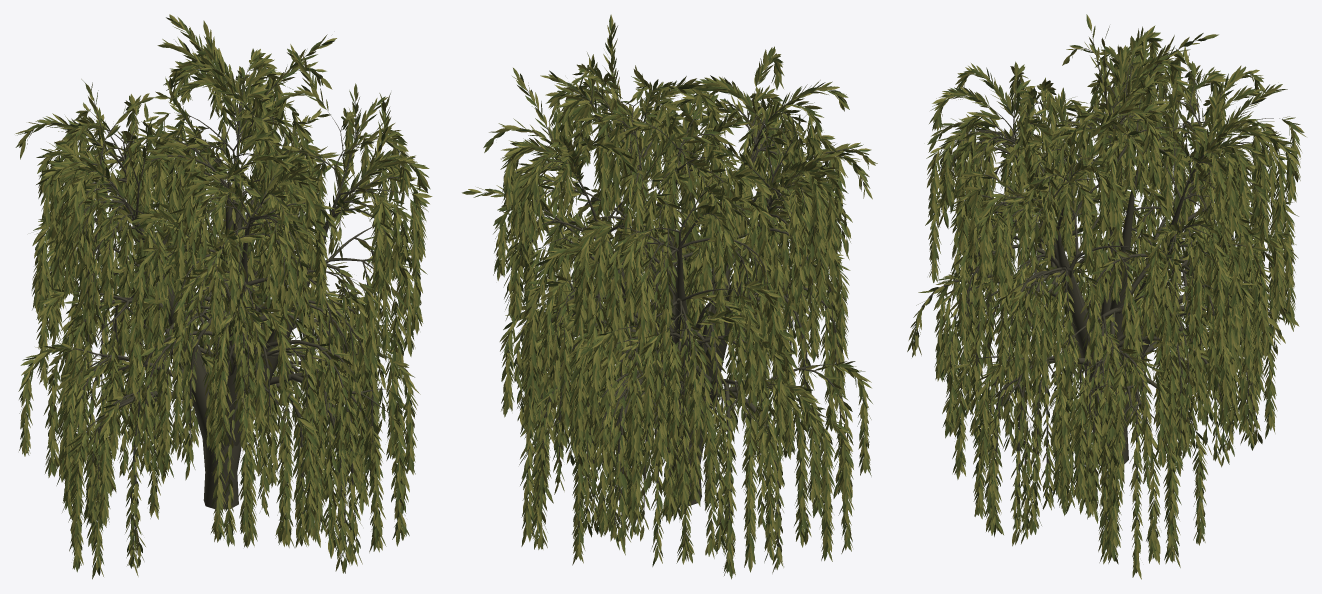
File: river_willow_0.glb
The picture shows the model from 3 angles, left to right: view 1: azimuth 30°, elevation 25°; view 2: azimuth 150°, elevation 25°; view 3: azimuth 270°, elevation 25°; orthographic projection. The views are drawn at different scales.
Parts seen in each view (by area): view 1: PendantLeaves0, TrunkAndWhips0; view 2: PendantLeaves0, TrunkAndWhips0; view 3: PendantLeaves0, TrunkAndWhips0.
Part boxes in pixels (left/top/right/bottom): PendantLeaves0: left=15, top=14, right=432, bottom=579; TrunkAndWhips0: left=26, top=42, right=421, bottom=558; PendantLeaves0: left=462, top=14, right=877, bottom=579; TrunkAndWhips0: left=478, top=49, right=864, bottom=548; PendantLeaves0: left=907, top=14, right=1305, bottom=579; TrunkAndWhips0: left=913, top=32, right=1290, bottom=546.
Size of the model in its own units: 7.14 by 10.56 by 7.54.
